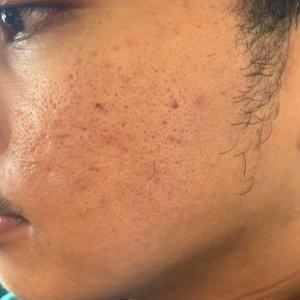Dry-Skin: (38, 67, 228, 206)
